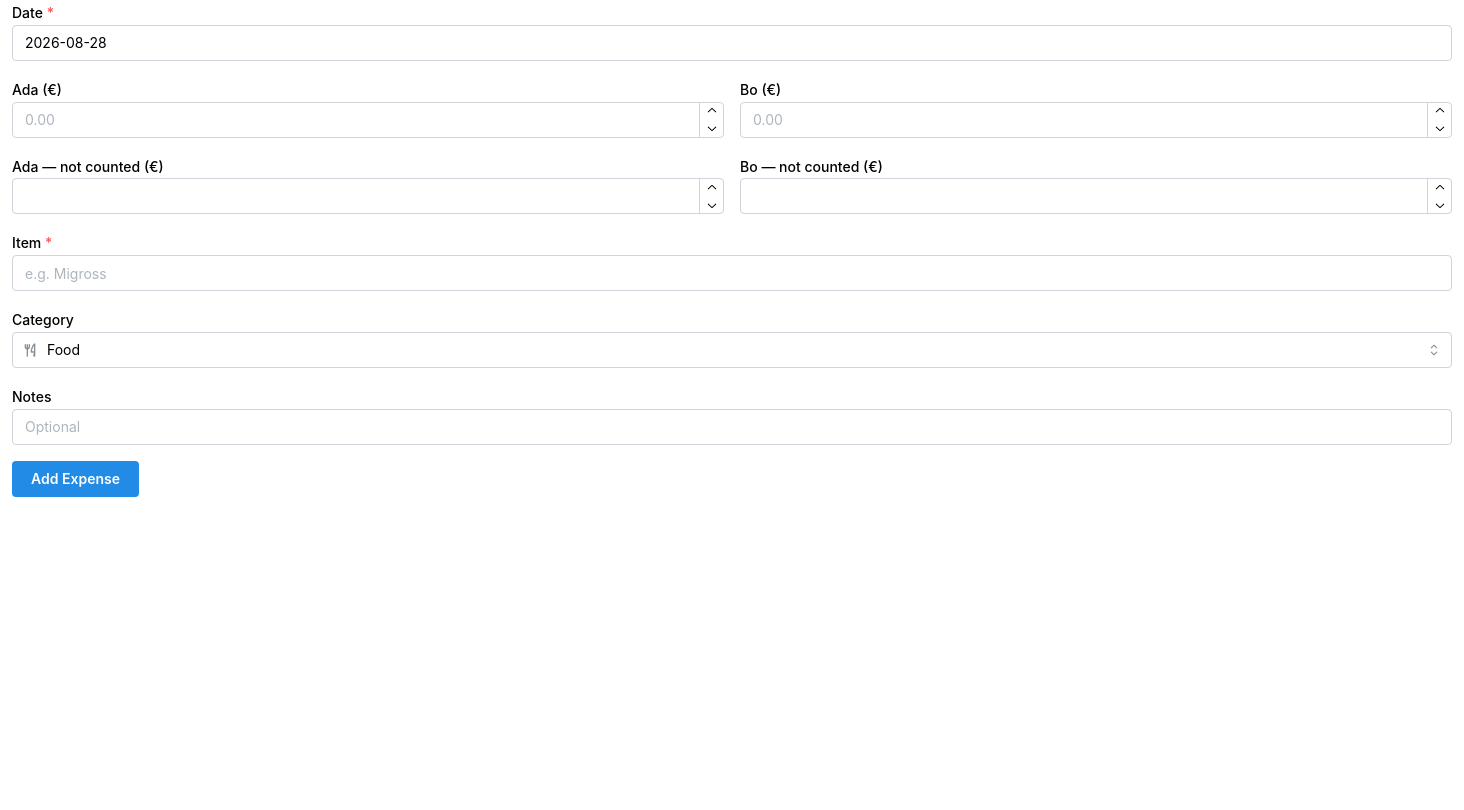
ExpenseForm › surfaces a failed save rather than appearing to have worked
Type "Bread" into the field labelled "Item" at (732, 273), box [12,255,1452,291]
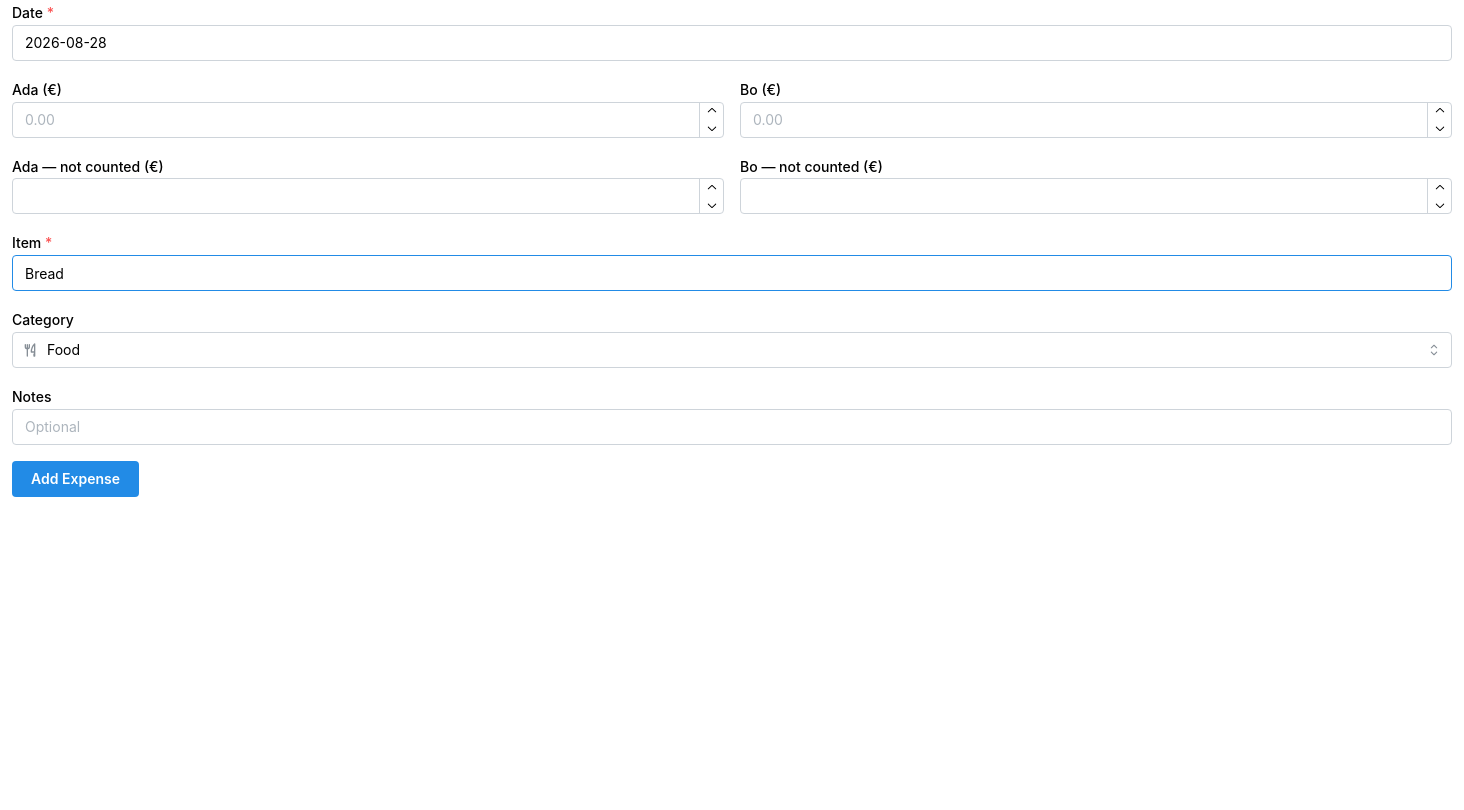
Type "12.99" into the field labelled "Ada (€)" at (368, 120), box [12,102,724,138]
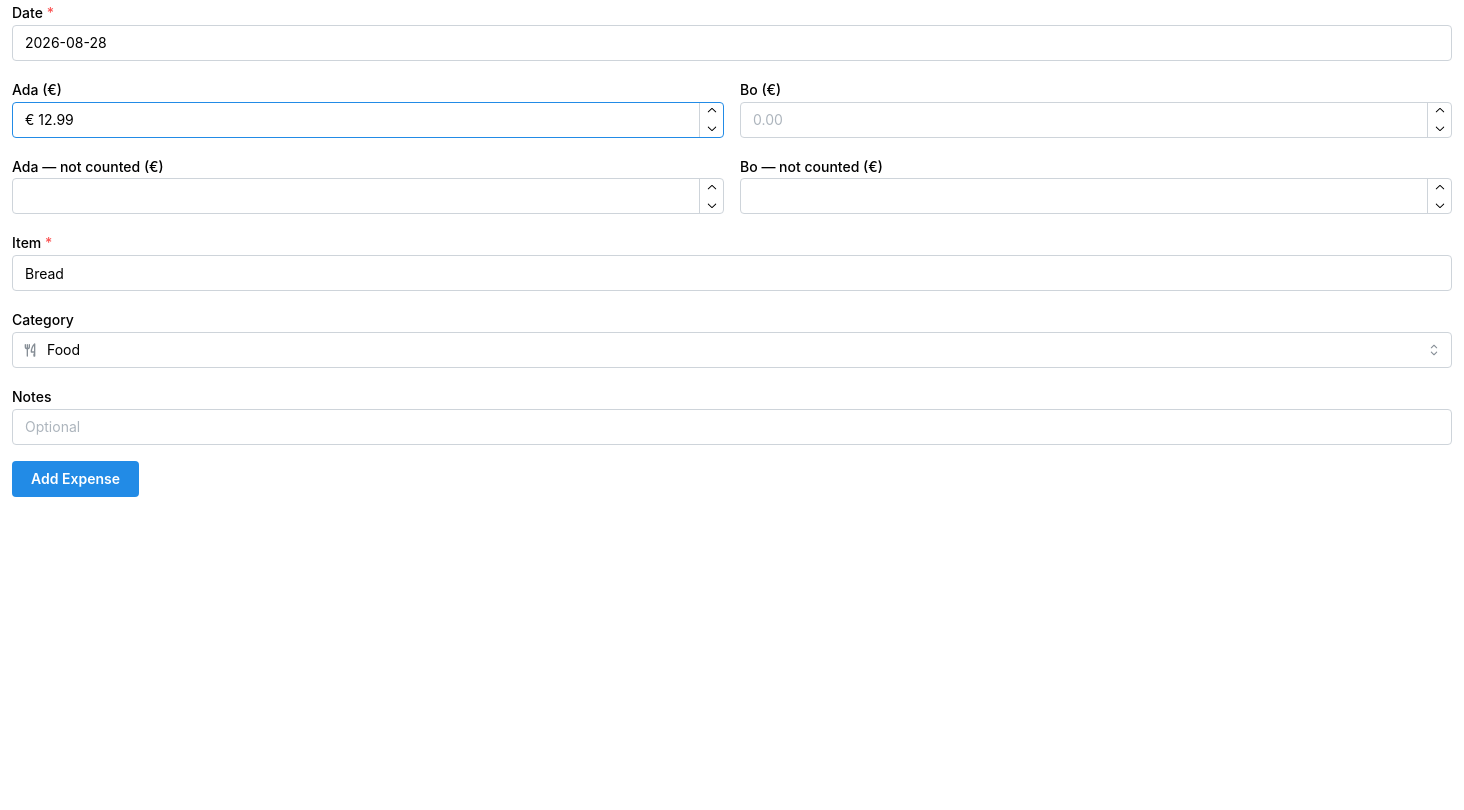
Click the button "Add Expense" at (76, 479), box [12,461,139,497]
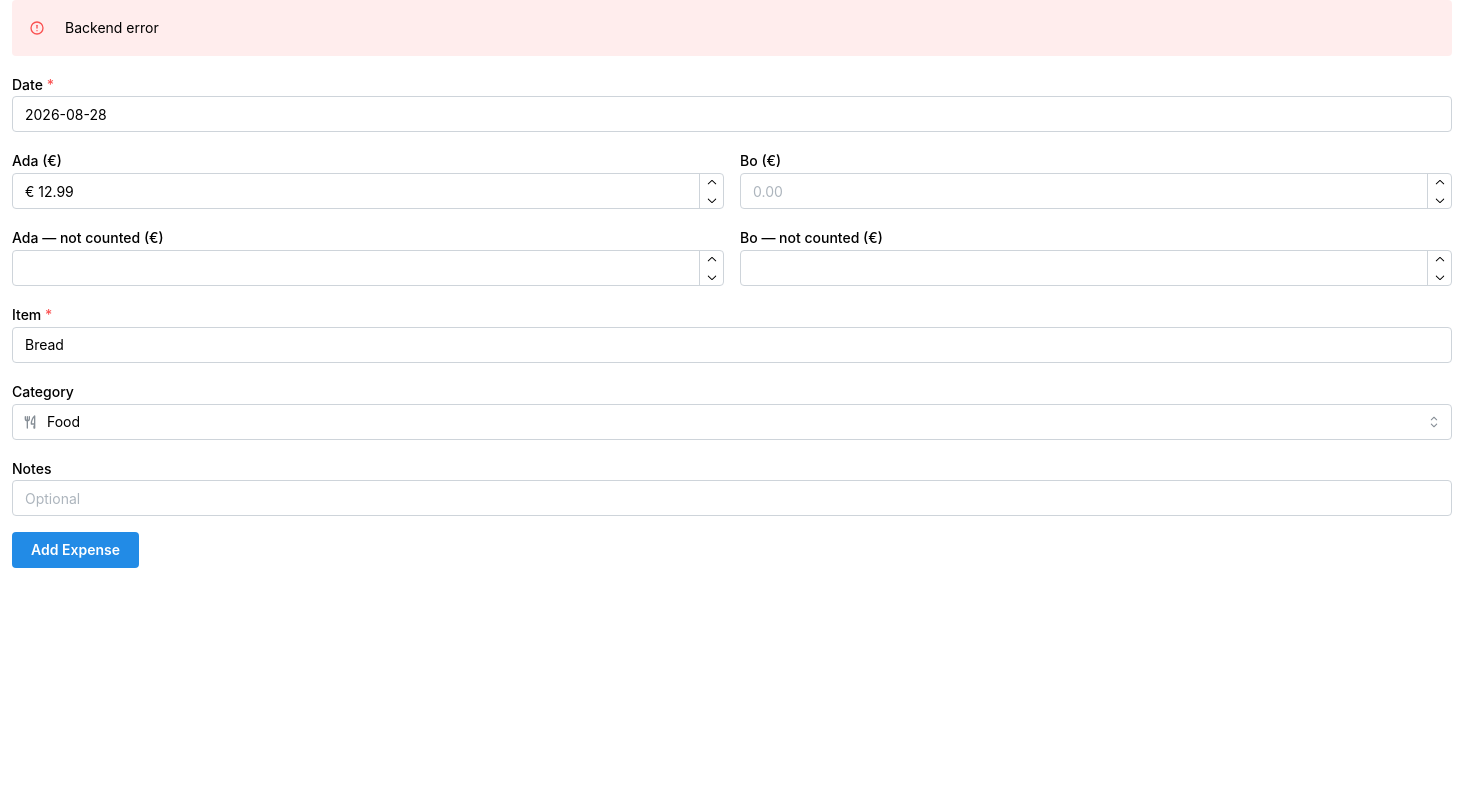
expect the text "Backend error" is shown: met, box [65,19,159,36]
